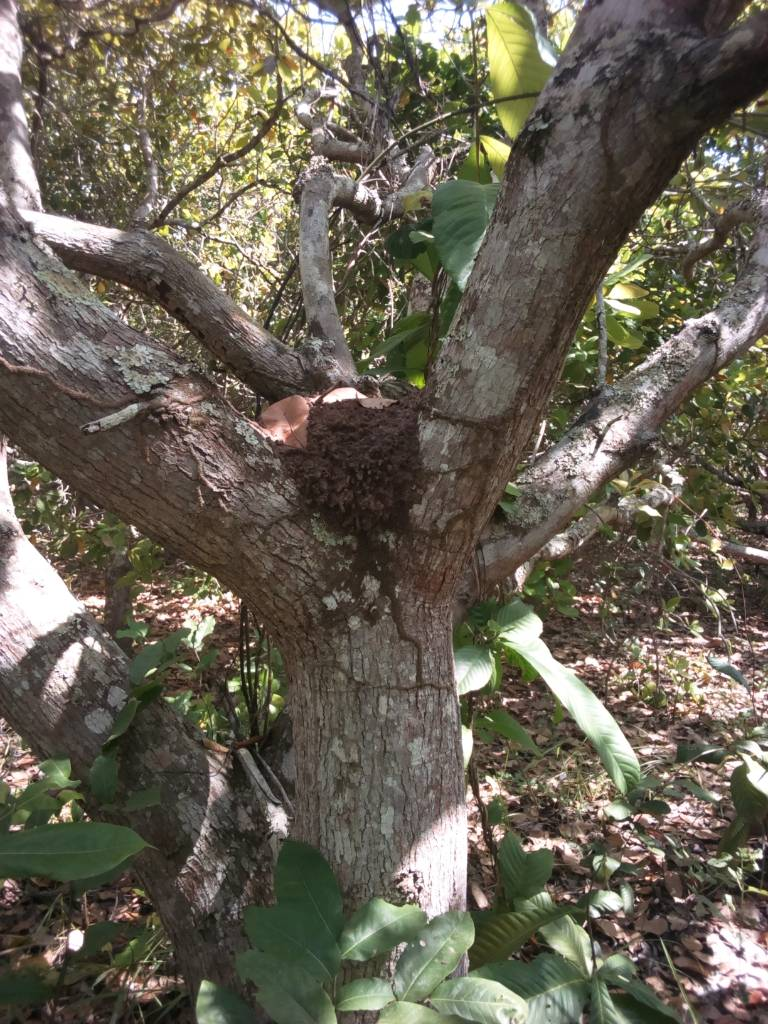Termites: (443, 311, 557, 522), (293, 386, 418, 557), (166, 385, 238, 516), (2, 352, 135, 411), (385, 594, 425, 685)
